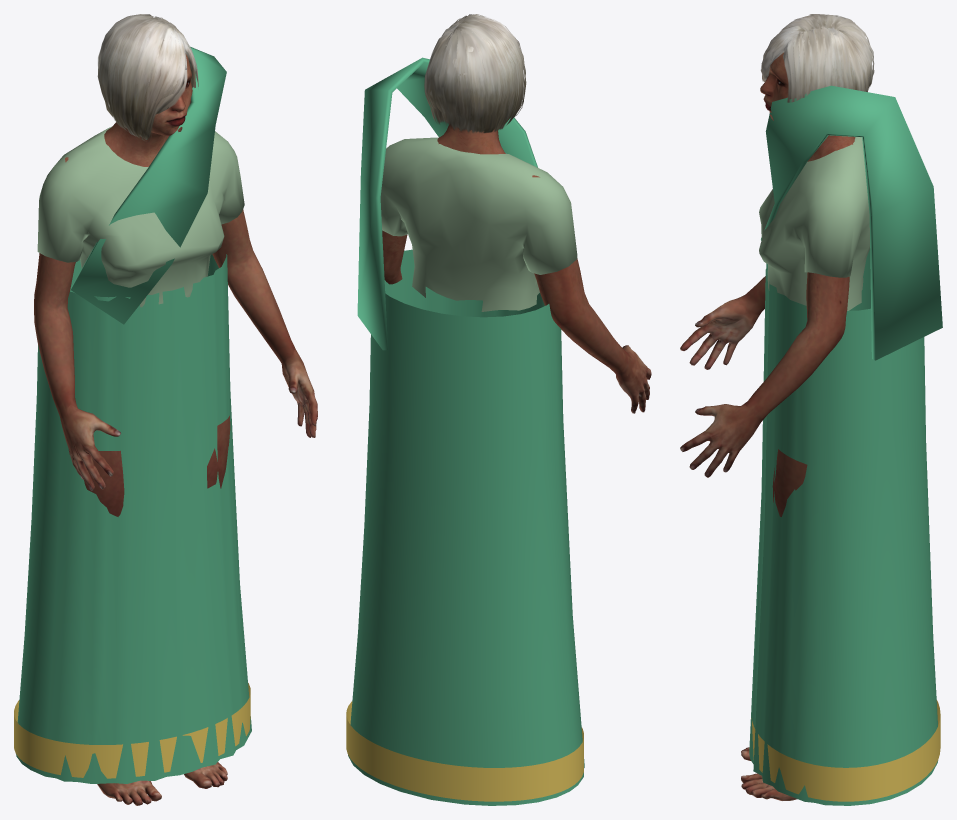
File: street_woman_saree_green.glb
3 renders of one model, left to right at view 1: azimuth 30°, elevation 25°; view 2: azimuth 150°, elevation 25°; view 3: azimuth 270°, elevation 25°, orthographic.
Parts seen in each view (by area): view 1: woman_saree_green; view 2: woman_saree_green; view 3: woman_saree_green.
Part boxes in pixels (x1=…): woman_saree_green: x1=14, y1=14, x2=317, y2=805; woman_saree_green: x1=346, y1=14, x2=651, y2=805; woman_saree_green: x1=680, y1=14, x2=942, y2=805.
Size of the model in its own units: 0.5211 by 1.57 by 0.4926.
10 materials, 7 textured.
